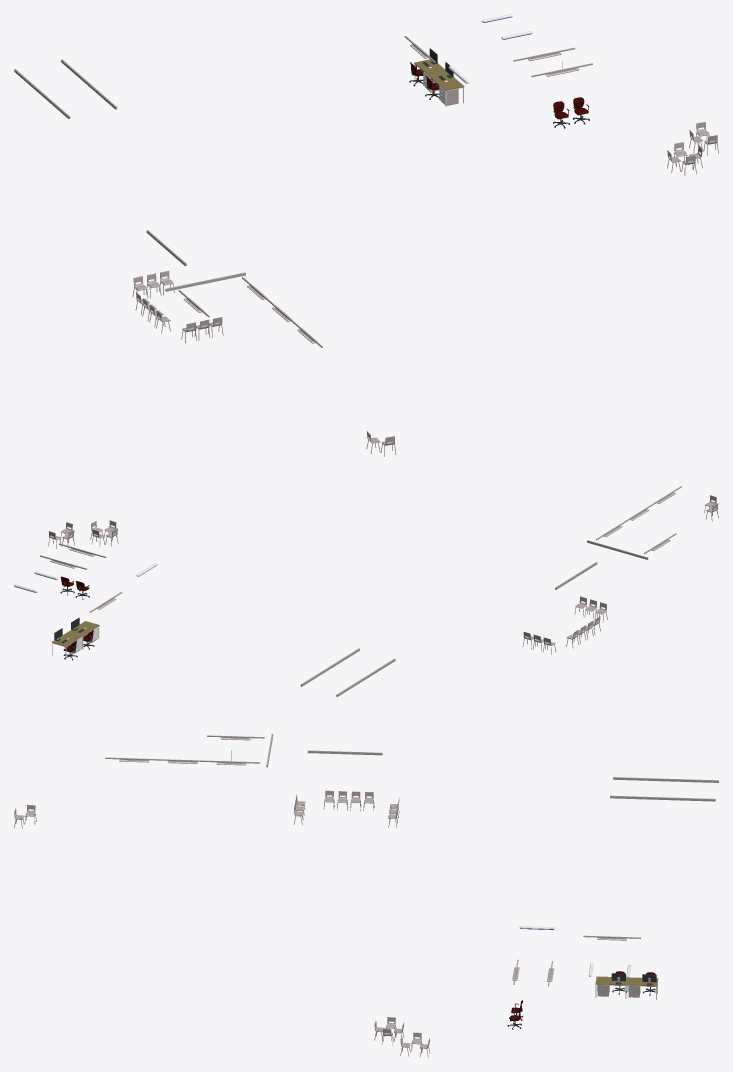
3 renders of one model, top to bottom at view 1: azimuth 30°, elevation 25°; view 2: azimuth 150°, elevation 25°; view 3: azimuth 270°, elevation 25°, orthographic. The views are drawn at different scales.
Visible parts, largest first — view 1: 0; view 2: 0, 1, 2, 3; view 3: 0.
Part boxes in pixels (box(x1,y1,x2,y2)): 0: box(14, 36, 718, 456); 0: box(40, 486, 718, 696); 1: box(14, 563, 157, 659); 2: box(54, 581, 94, 660); 3: box(51, 621, 99, 646); 0: box(14, 733, 718, 1057).
Bounding box in the file's own units: 28.11 × 3.69 × 31.97.
